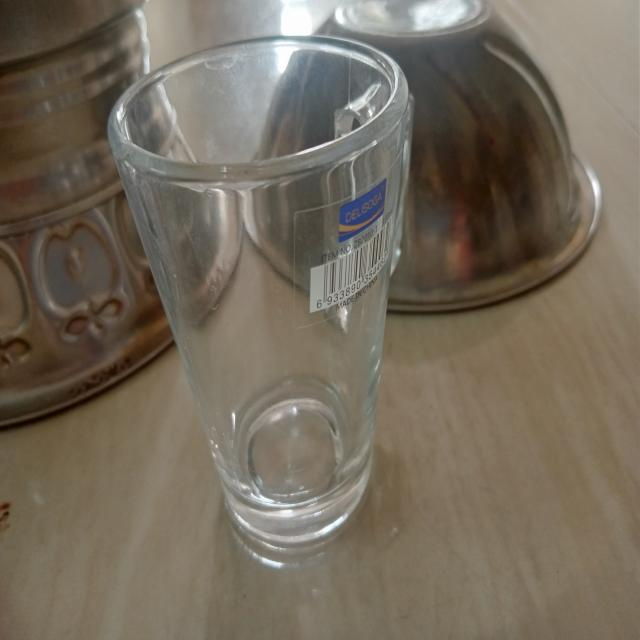glass-VX4N: (106, 35, 422, 550)
